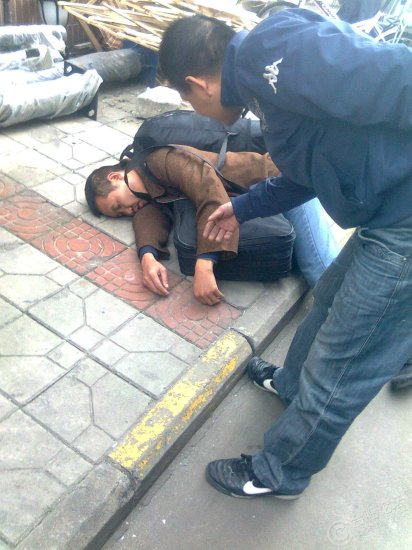fall: (81, 121, 326, 313)
